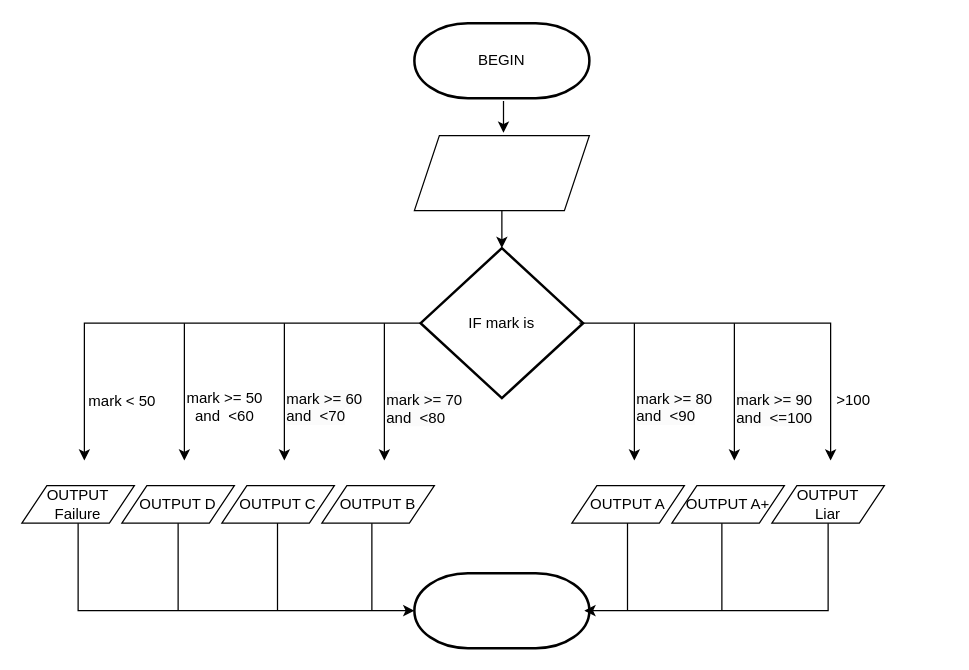
This 969x670 diagram has some shape labels left out. Here are the shapes that lost their labels. From the top down, the centre of each, then its label:
At (501,172): "INPUT Marks".
At (501,610): "END".
